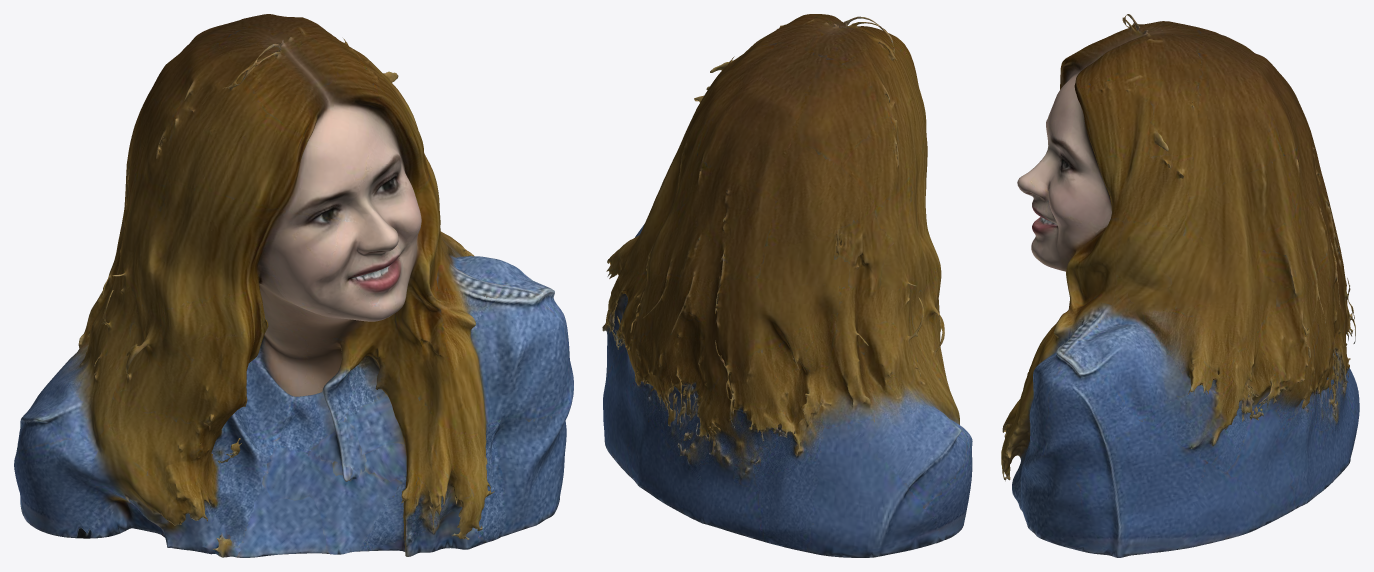
The model's file is Meshy_AI_Golden_Gaze_compressed.glb.
3 renders of one model, left to right at view 1: azimuth 30°, elevation 25°; view 2: azimuth 150°, elevation 25°; view 3: azimuth 270°, elevation 25°, orthographic. The views are drawn at different scales.
Size of the model in its own units: 1.87 by 1.9 by 1.45.
Materials: 1 (1 with a texture image).
